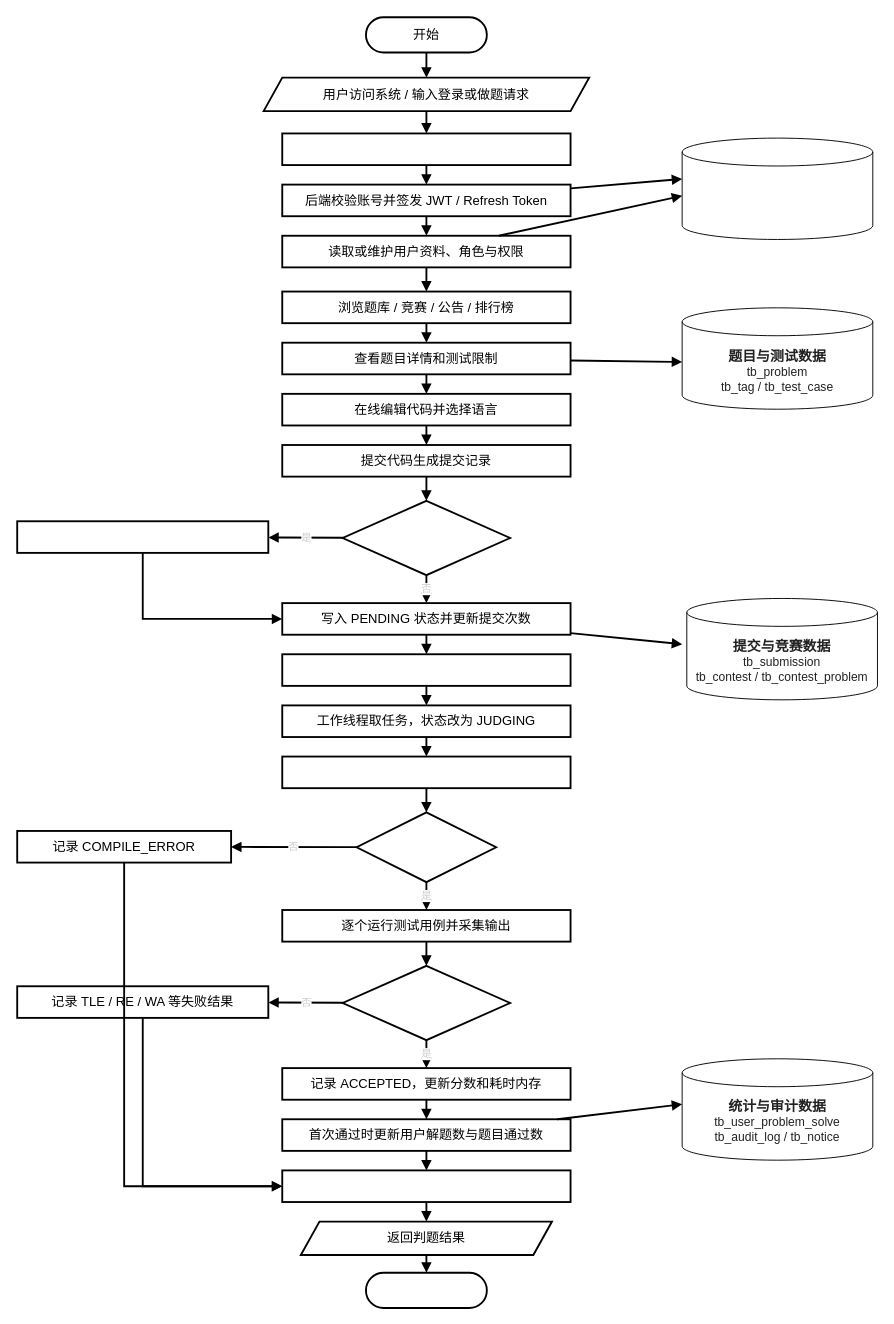
This 894x1324 diagram has some shape labels left out. Each missing label, with the box of its shape:
加入异步判题队列: (281, 653, 571, 686)
是否为竞赛提交: (341, 499, 511, 576)
校验竞赛时间、报名状态和题目绑定: (16, 520, 269, 553)
用户与权限数据 tb_user tb_refresh_token: (681, 137, 873, 239)
用户查询提交详情 / 排行榜 / 竞赛榜单: (281, 1169, 571, 1202)
用户注册 / 登录: (281, 132, 571, 166)
结束: (365, 1271, 487, 1309)
编译是否成功: (355, 811, 497, 883)
读取测试用例，创建临时目录并写入源代码: (281, 755, 571, 789)
运行结果是否通过: (341, 964, 511, 1041)
